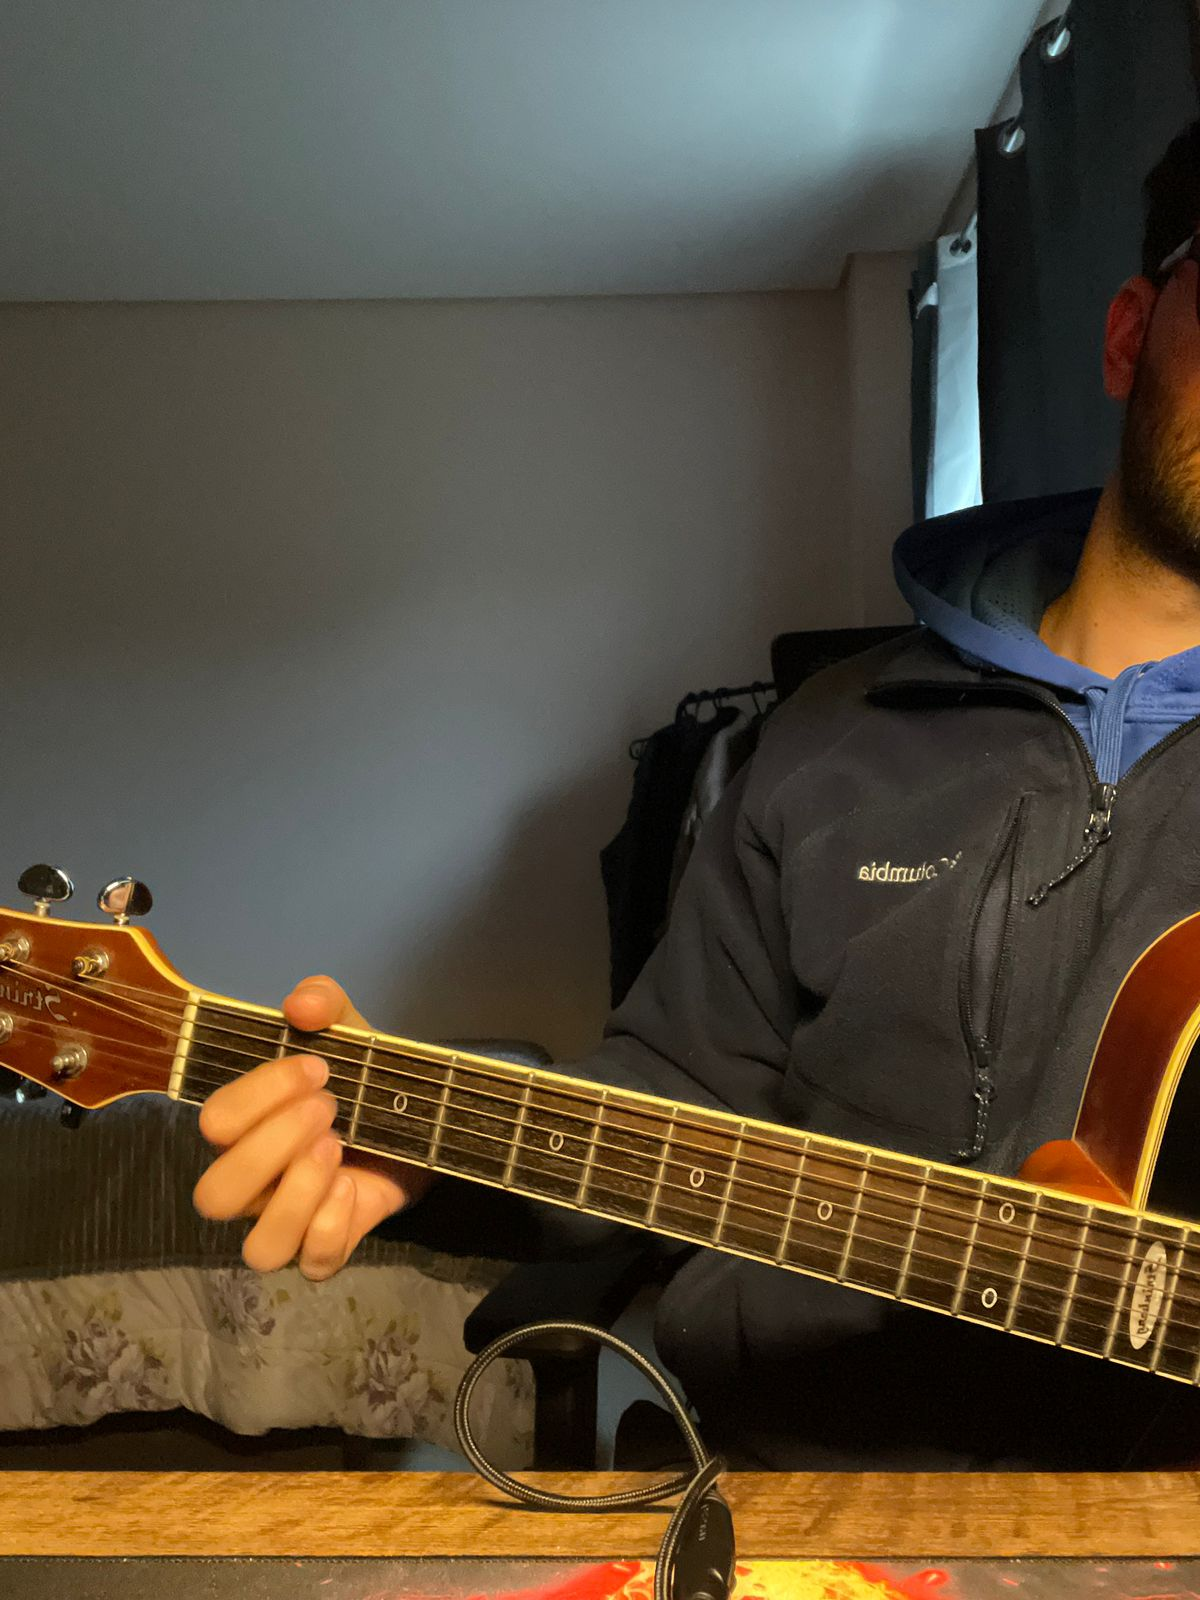la: (266, 1031, 379, 1162)
violao: (1, 857, 1200, 1427)
